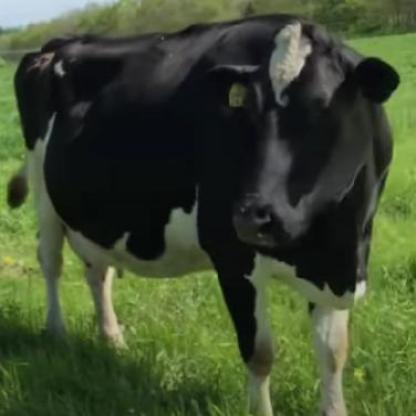cow: (14, 13, 400, 416)
